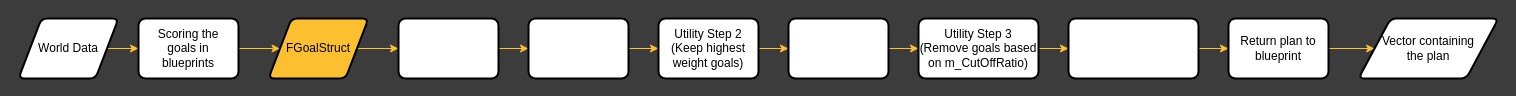
Some shapes in this 1516 by 96 pixel diagram are drawn without their labels. Each missing label, with the box of its shape:
GOAP (Create a plan with a cost): (787, 17, 889, 79)
OnUpdate() (Called from BP): (397, 17, 499, 79)
Utility Step 1 (Remove weight 0 goals): (527, 17, 629, 79)
Utility Step 4 (Choose goal with weight based random): (1067, 17, 1199, 79)
